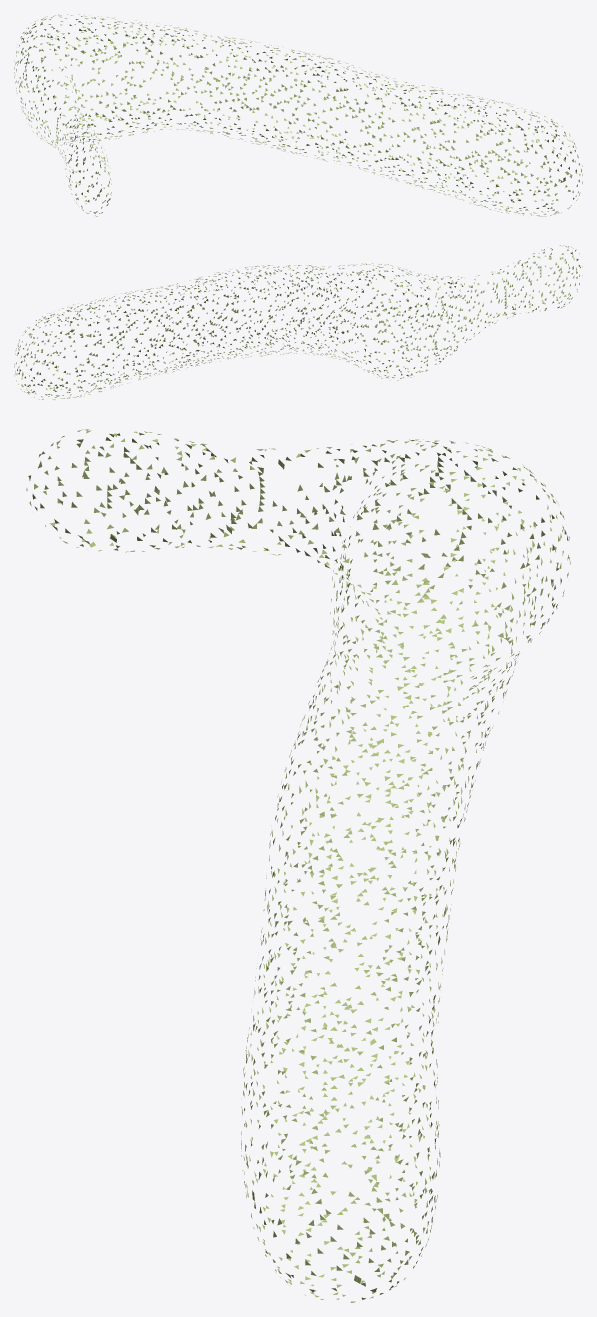
The model's file is morph_011.glb.
3 renders of one model, top to bottom at view 1: azimuth 30°, elevation 25°; view 2: azimuth 150°, elevation 25°; view 3: azimuth 270°, elevation 25°, orthographic. The views are drawn at different scales.
Bounding box in the file's own units: 126 × 58.43 × 61.18.
